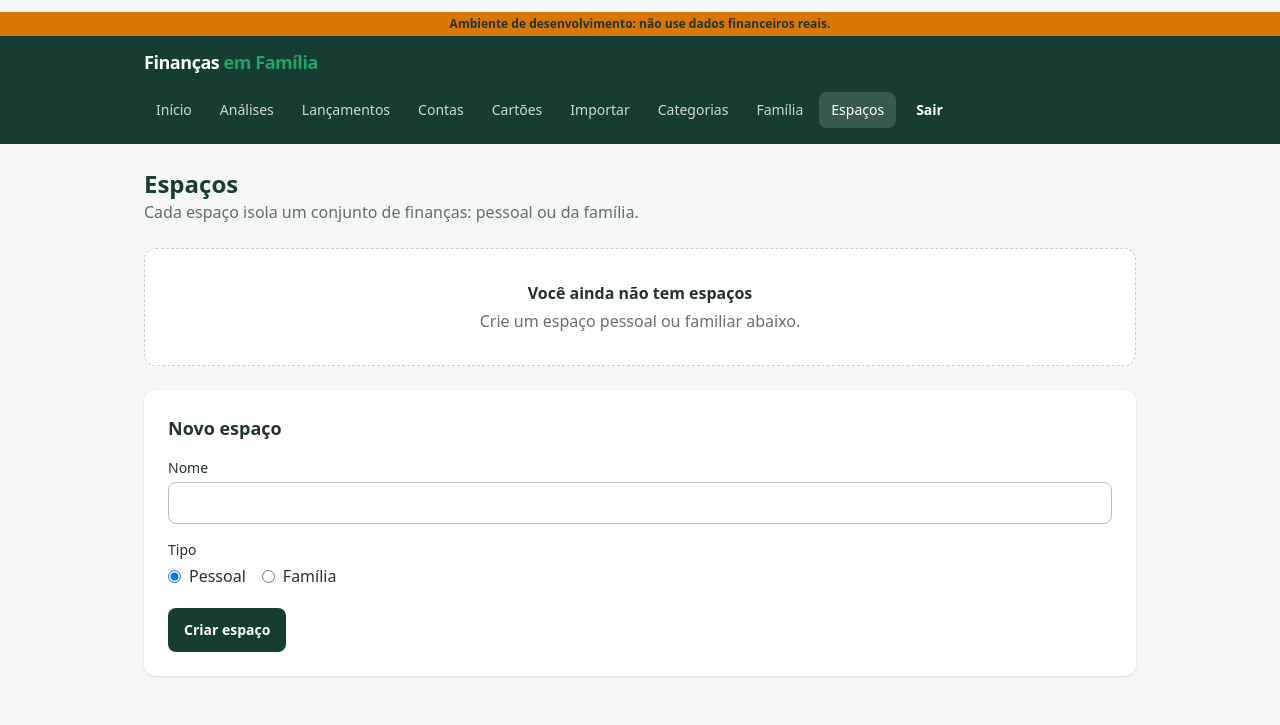
HouseholdsPage › valida o nome antes de enviar
The image size is (1280, 725).
expect the text "Você ainda não tem espaços" is shown: met, box [528,282,752,304]
Click the button "Criar espaço" at [227, 630], box [168,608,286,652]
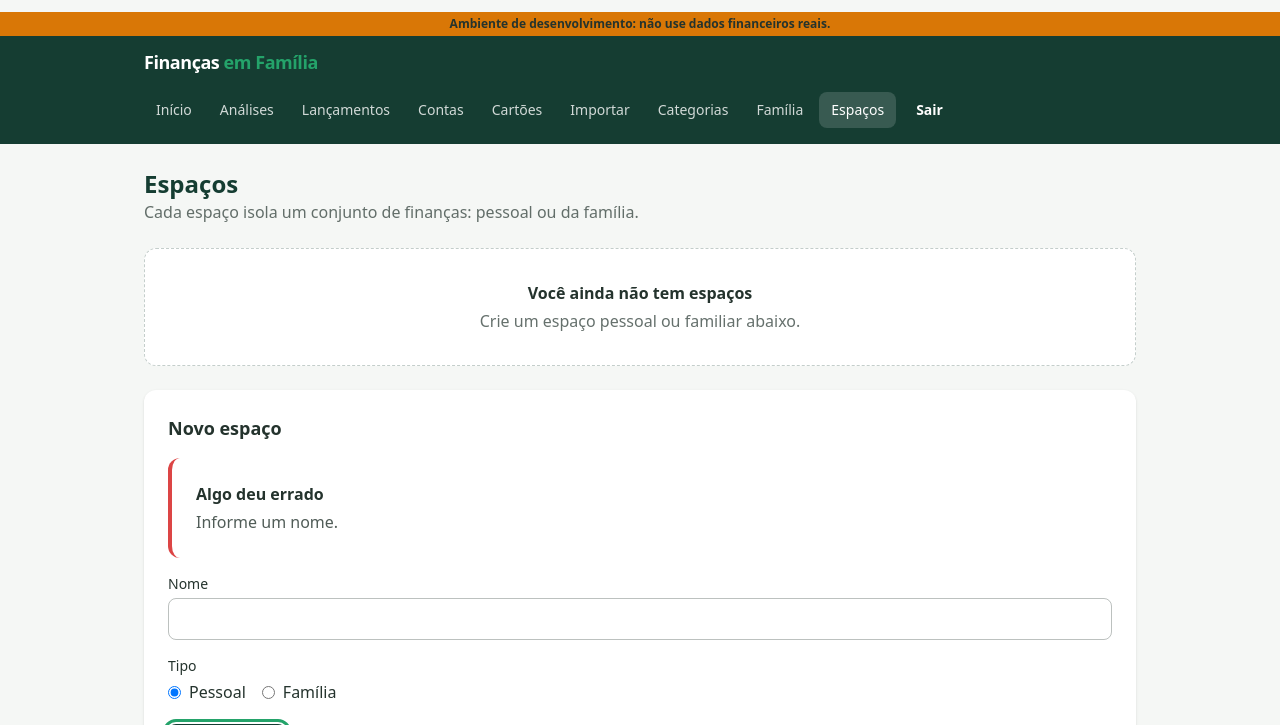
expect the message shows "Informe um nome.": met, box [196,511,338,533]
